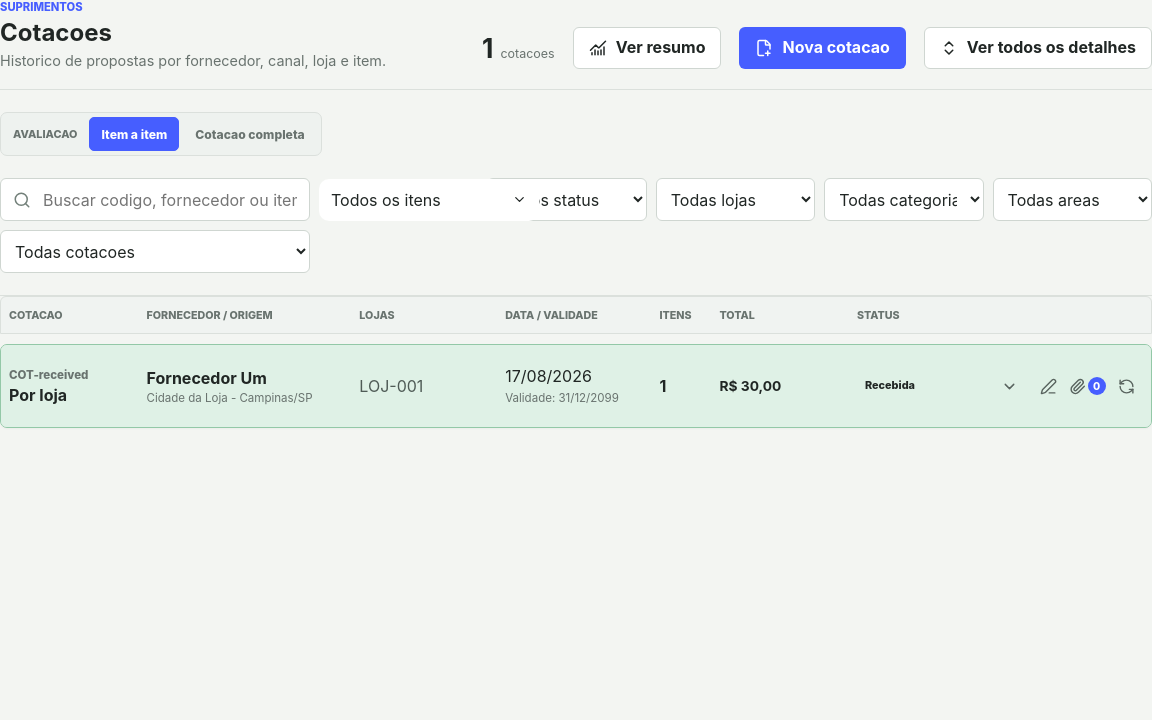
Test: SupplyQuotesPage › informa quando o backend negar permissao para aprovar compra
The image size is (1152, 720).
Step 1. Click the button named "Alterar status COT-received" → x=1126, y=386, box [1109,369,1143,403]
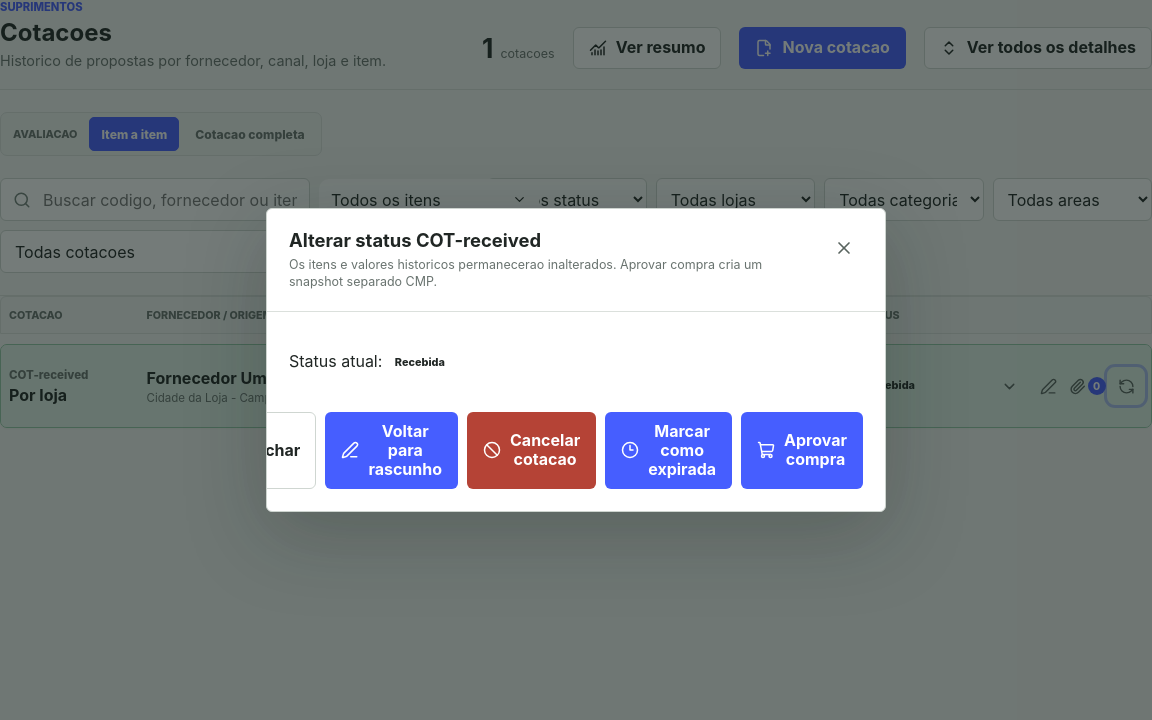
Step 2. Click the button "Aprovar compra" → x=802, y=450, box [741,412,863,489]
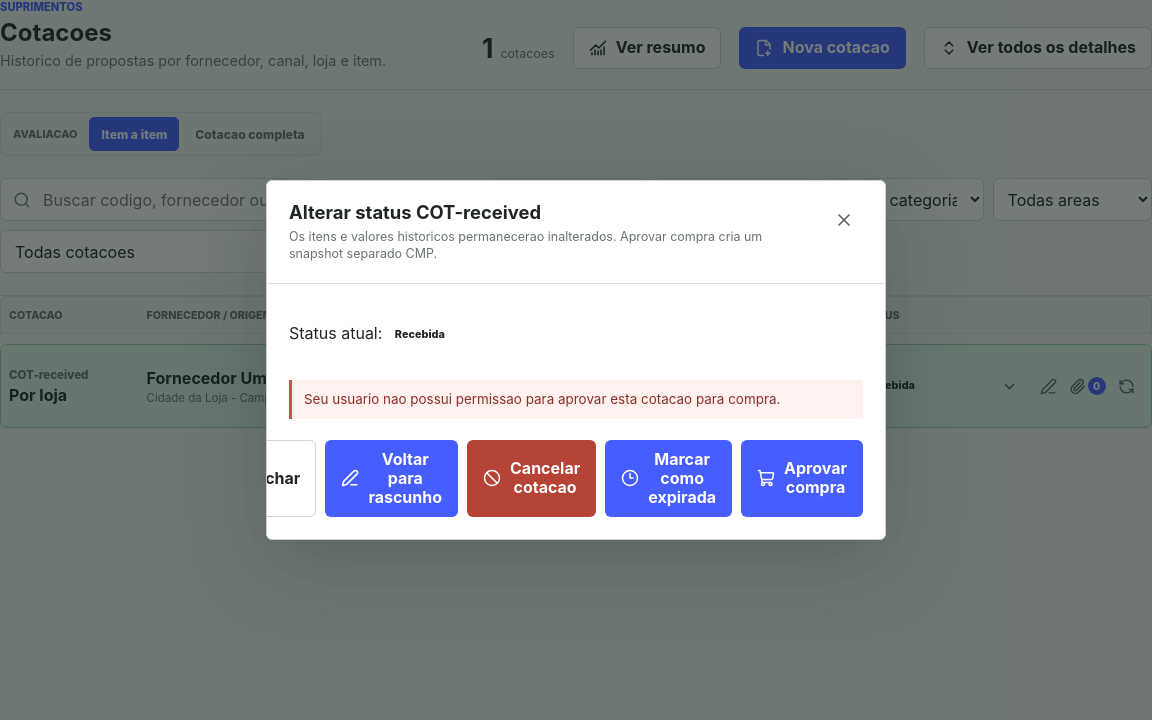
Expected: the text "Seu usuario nao possui permissao para aprovar esta cotacao para compra." is shown, [289,380,863,419]
